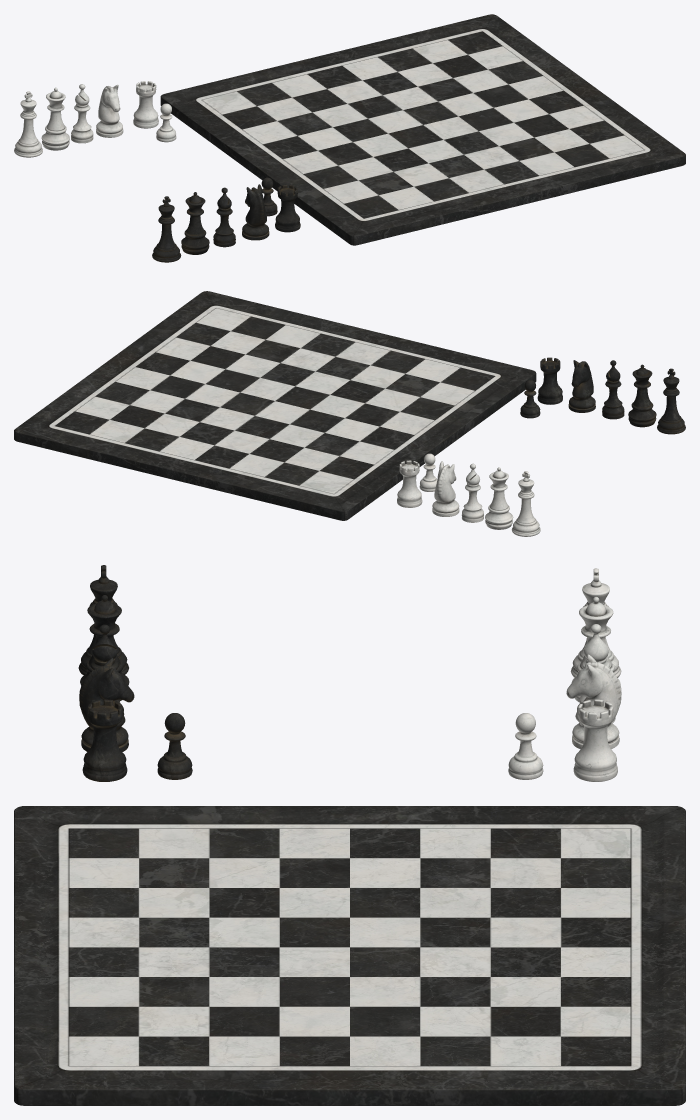
The model's file is chess_set.gltf.
3 renders of one model, top to bottom at view 1: azimuth 30°, elevation 25°; view 2: azimuth 150°, elevation 25°; view 3: azimuth 270°, elevation 25°, orthographic. The views are drawn at different scales.
Visible parts, largest first — view 1: board, piece_queen_white, piece_queen_black, piece_knight_black, piece_knight_white, piece_king_black, piece_king_white, piece_rook_white, piece_rook_black, piece_bishop_black, piece_bishop_white, piece_pawn_white (+1 smaller); view 2: board, piece_queen_white, piece_queen_black, piece_knight_white, piece_knight_black, piece_king_black, piece_king_white, piece_rook_white, piece_rook_black, piece_bishop_black, piece_bishop_white, piece_pawn_black (+1 smaller); view 3: board, piece_rook_black, piece_rook_white, piece_knight_white, piece_knight_black, piece_pawn_white, piece_pawn_black, piece_queen_black, piece_queen_white, piece_king_black, piece_king_white.
Part boxes in pixels (x1,y1,x2,y2): board: [160, 14, 685, 245]; piece_queen_white: [41, 87, 69, 150]; piece_queen_black: [181, 192, 209, 254]; piece_knight_black: [242, 184, 269, 240]; piece_knight_white: [96, 84, 123, 137]; piece_king_black: [152, 196, 181, 262]; piece_king_white: [14, 91, 42, 157]; piece_rook_white: [133, 81, 158, 128]; piece_rook_black: [275, 184, 300, 232]; piece_bishop_black: [213, 187, 235, 247]; piece_bishop_white: [71, 84, 93, 143]; piece_pawn_white: [156, 103, 176, 142]; board: [14, 291, 536, 520]; piece_queen_white: [485, 467, 513, 529]; piece_queen_black: [628, 364, 656, 427]; piece_knight_white: [432, 461, 459, 516]; piece_knight_black: [568, 360, 595, 412]; piece_king_black: [657, 368, 685, 434]; piece_king_white: [511, 471, 540, 536]; piece_rook_white: [397, 460, 422, 507]; piece_rook_black: [537, 357, 562, 404]; piece_bishop_black: [602, 360, 624, 419]; piece_bishop_white: [461, 463, 483, 522]; piece_pawn_black: [520, 380, 540, 418]; board: [14, 806, 685, 1105]; piece_rook_black: [82, 699, 127, 781]; piece_rook_white: [573, 699, 617, 781]; piece_knight_white: [566, 654, 621, 749]; piece_knight_black: [79, 658, 134, 751]; piece_pawn_white: [508, 713, 543, 779]; piece_pawn_black: [157, 713, 192, 779]; piece_queen_black: [80, 595, 129, 700]; piece_queen_white: [571, 596, 620, 702]; piece_king_black: [78, 565, 128, 675]; piece_king_white: [570, 568, 621, 677].
Bounding box in the file's own units: 0.8372 × 0.1124 × 0.5532.
3 materials, 3 textured.
